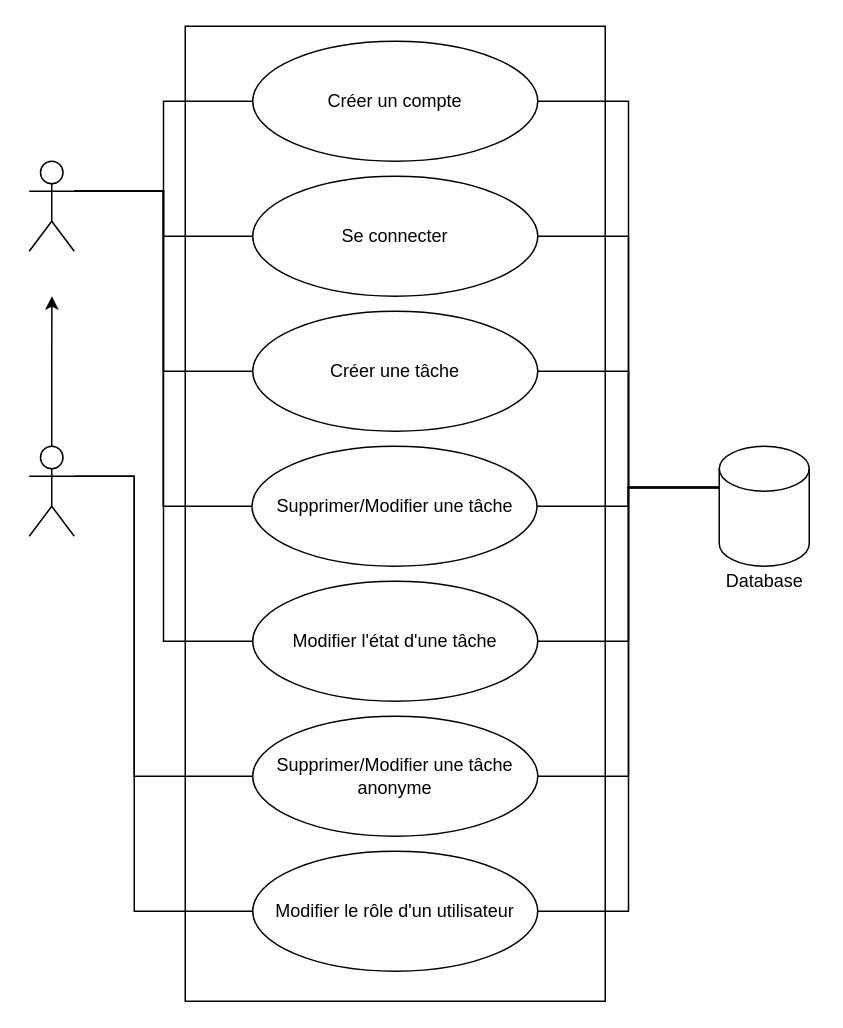
This 843x1028 diagram has some shape labels left out. Here are the shapes that lost their labels. From the top down, the centre of each, then its label:
At [51,205]: "User".
At [51,490]: "Admin".
